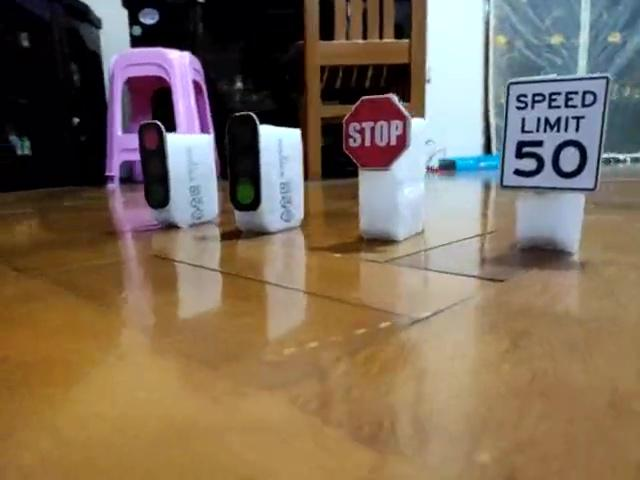Green Traffic Light: (227, 112, 264, 212)
Red Traffic Light: (140, 120, 171, 209)
Speed Limit 50: (502, 75, 609, 192)
Stop Sign: (340, 95, 411, 174)
